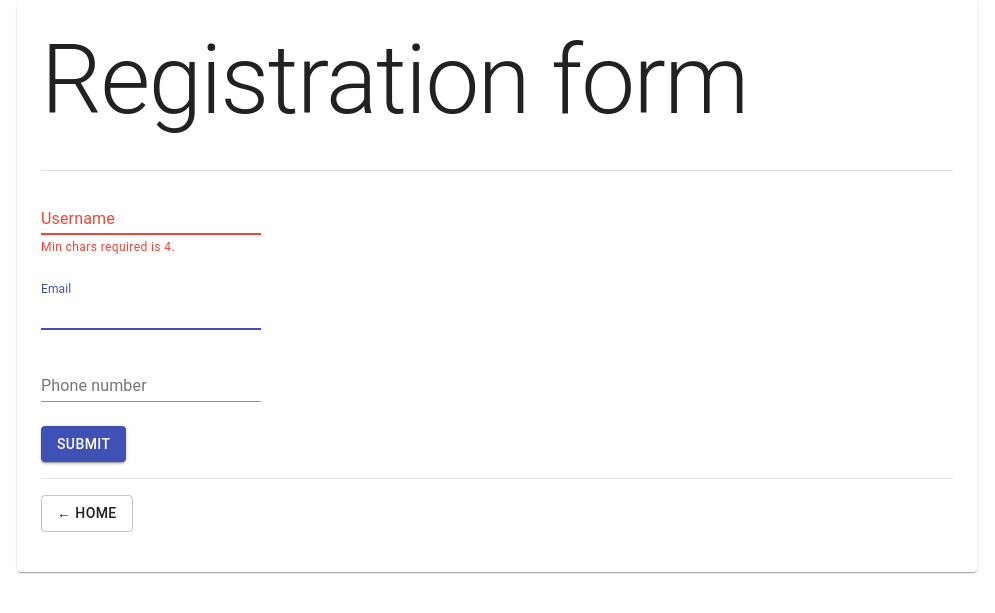
Test: form input for email › should display error message about invalid email address
In the field labelled "Email": (151, 314) left=41, top=298, right=261, bottom=330, type "abcddefgh"
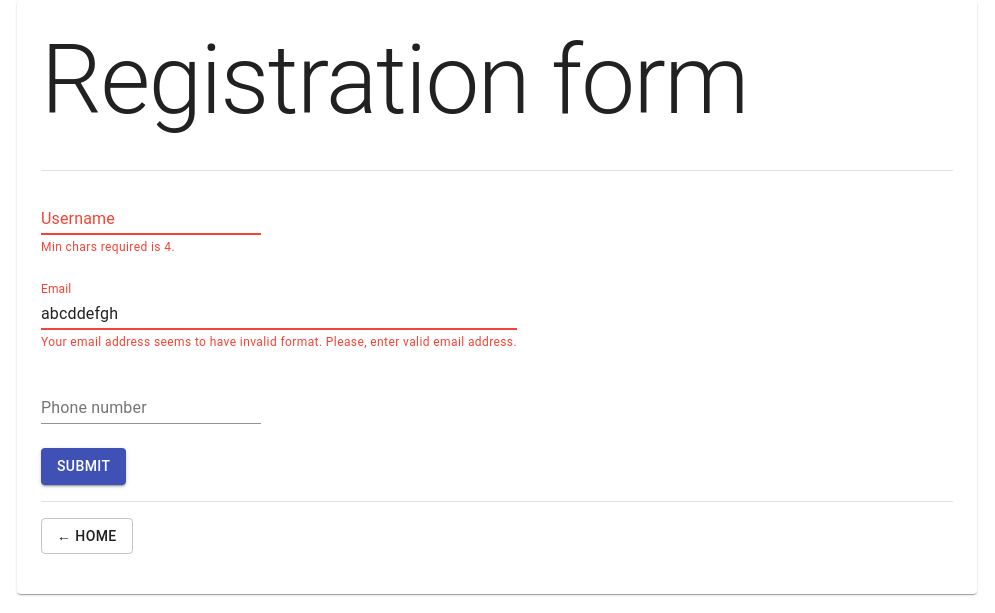
expect the text "Your email address seems to have invalid format. Please, enter valid email address." is shown: met, box left=41, top=334, right=517, bottom=348
